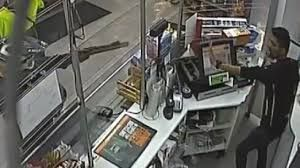gun: (63, 36, 134, 64)
